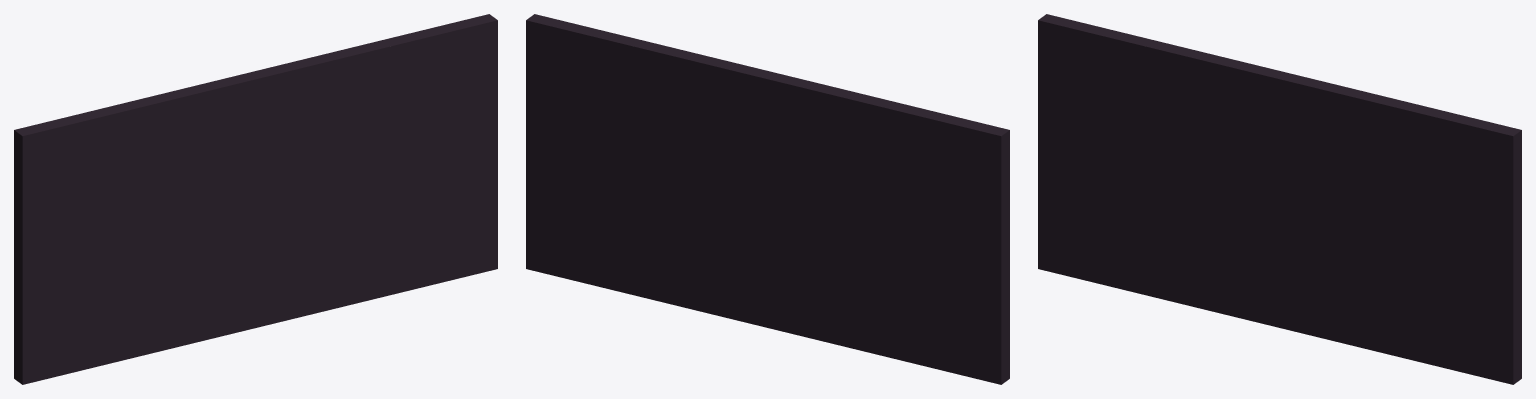
The model's file is wall_textured_f_8_col.gltf.
3 views of the same model, side by side, from view 1: azimuth 30°, elevation 25°; view 2: azimuth 150°, elevation 25°; view 3: azimuth 330°, elevation 25° (orthographic).
Parts seen in each view (by area): view 1: wall_textured_f_8_col; view 2: wall_textured_f_8_col; view 3: wall_textured_f_8_col.
Part boxes in pixels (x1=…): wall_textured_f_8_col: x1=14, y1=14, x2=497, y2=384; wall_textured_f_8_col: x1=526, y1=14, x2=1009, y2=384; wall_textured_f_8_col: x1=1038, y1=14, x2=1521, y2=384.
Bounding box in the file's own units: 8 × 4 × 0.25.
Materials: 1 (1 with a texture image).
